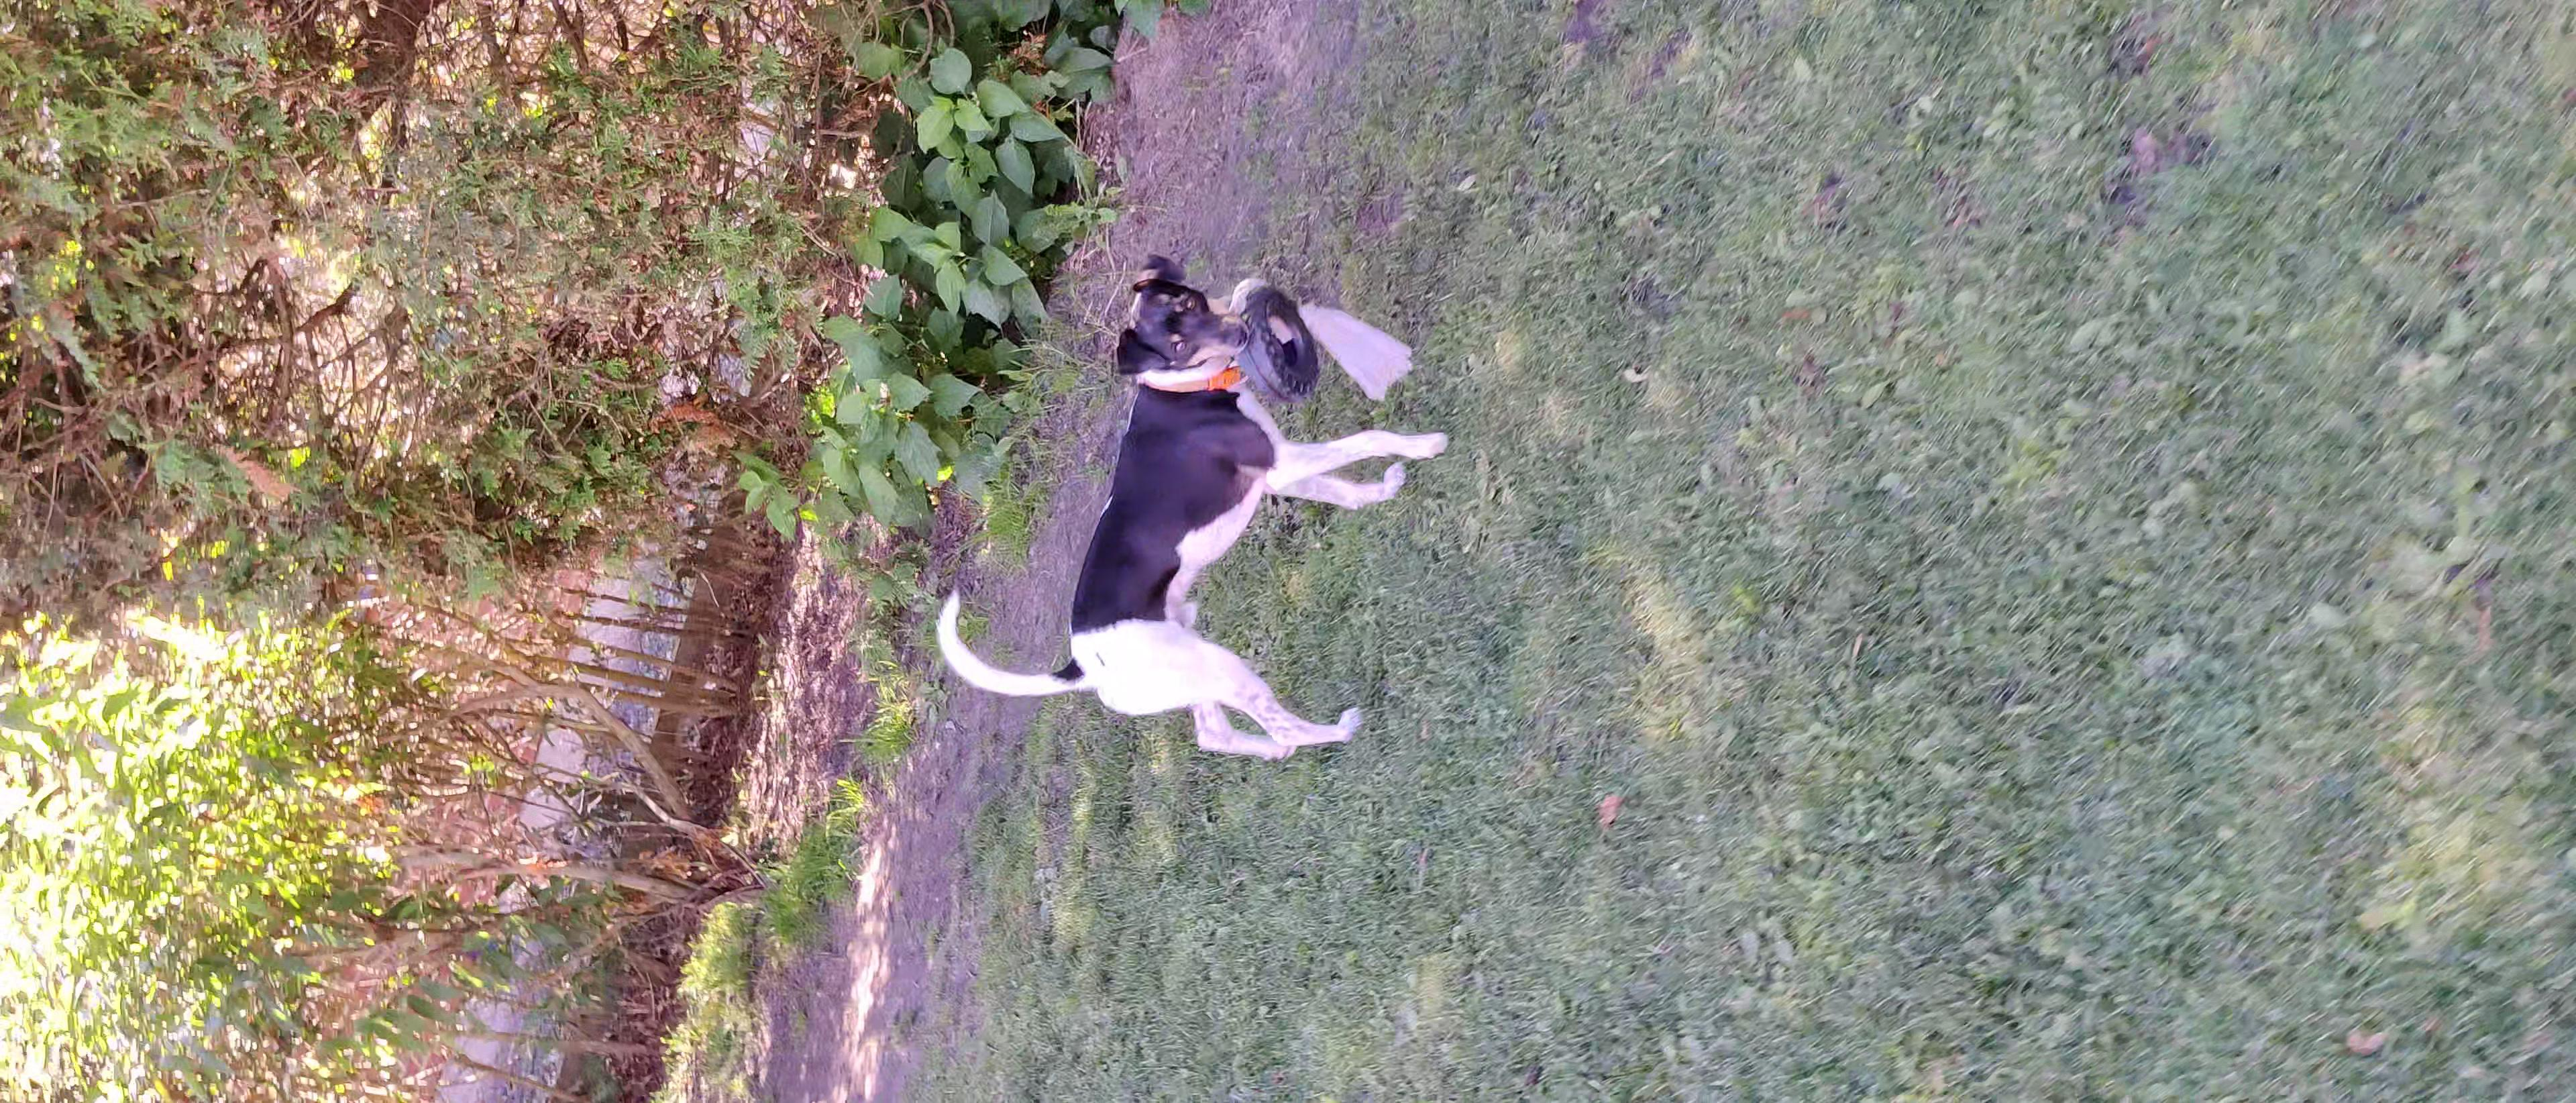Dog: (931, 247, 1460, 768)
